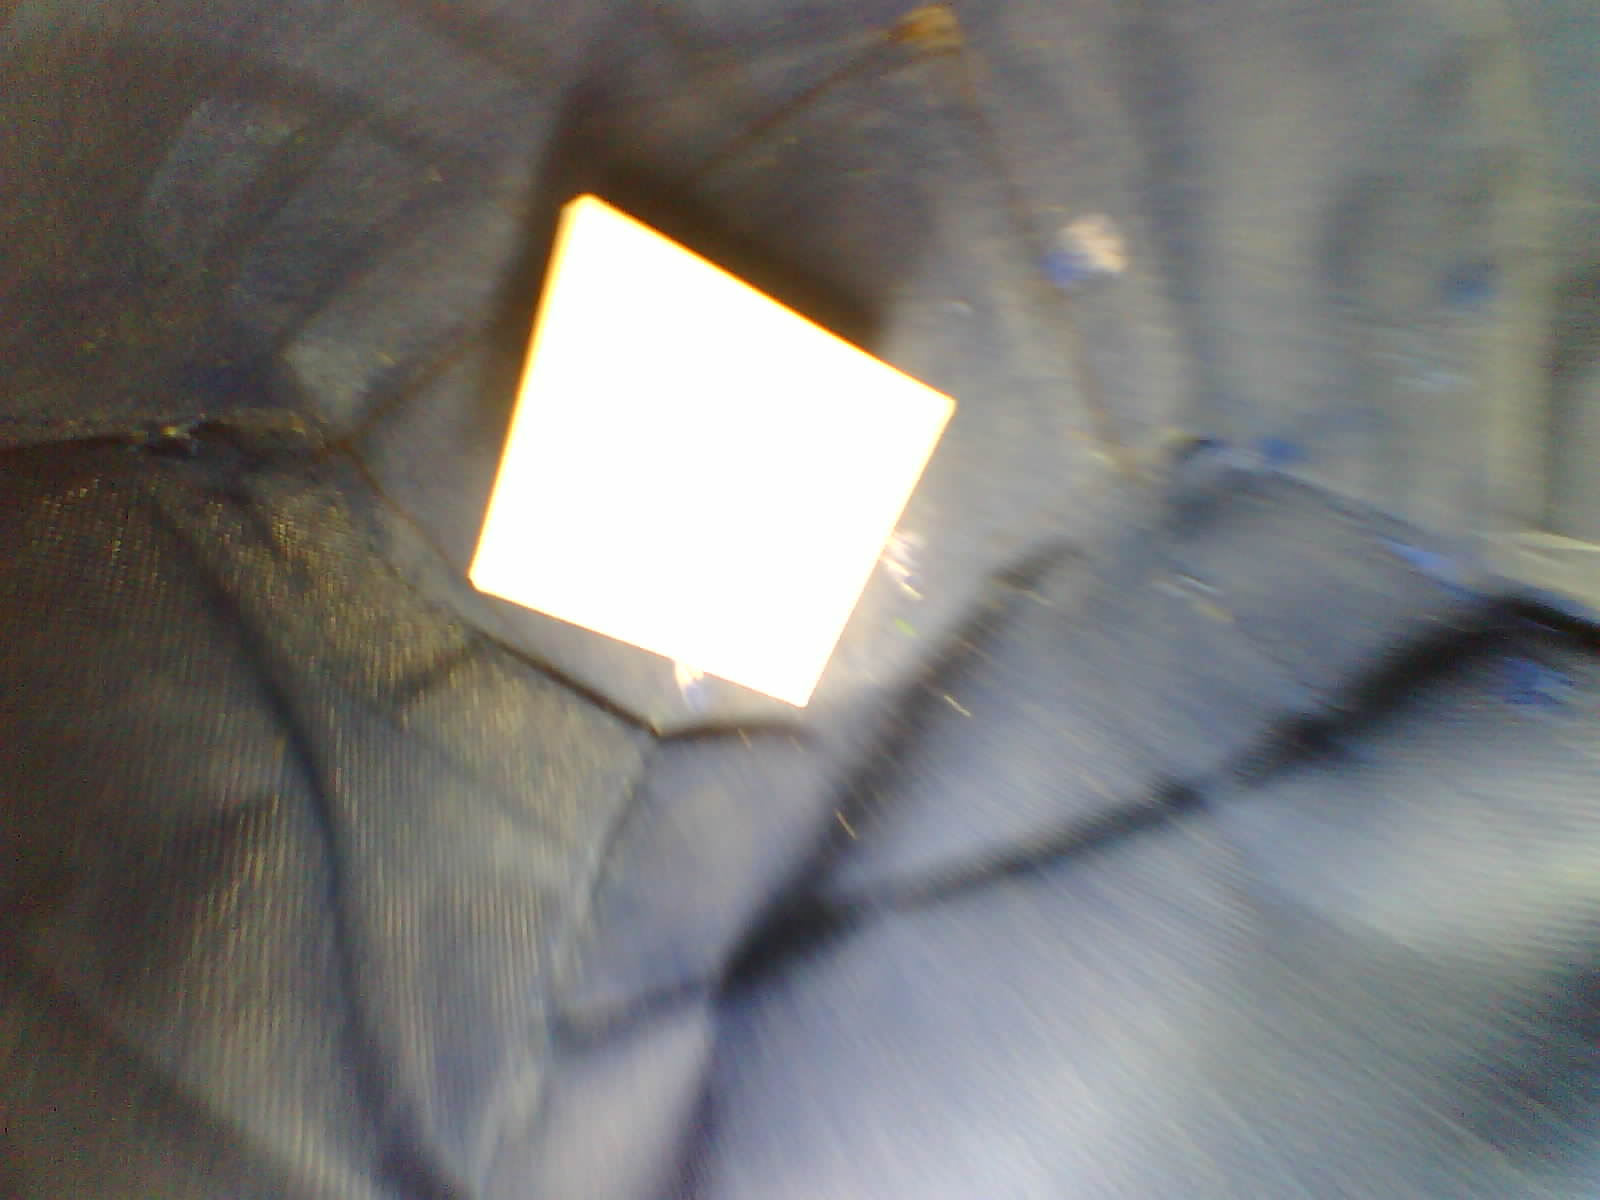cube-hard: (451, 184, 966, 751)
